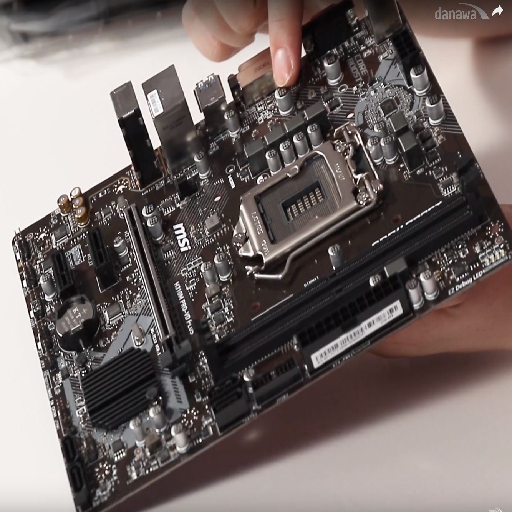CPU: (227, 124, 382, 284)
GPU: (122, 202, 193, 369)
MOTHERBOARD: (14, 6, 512, 508)
RAM: (203, 195, 489, 387)
